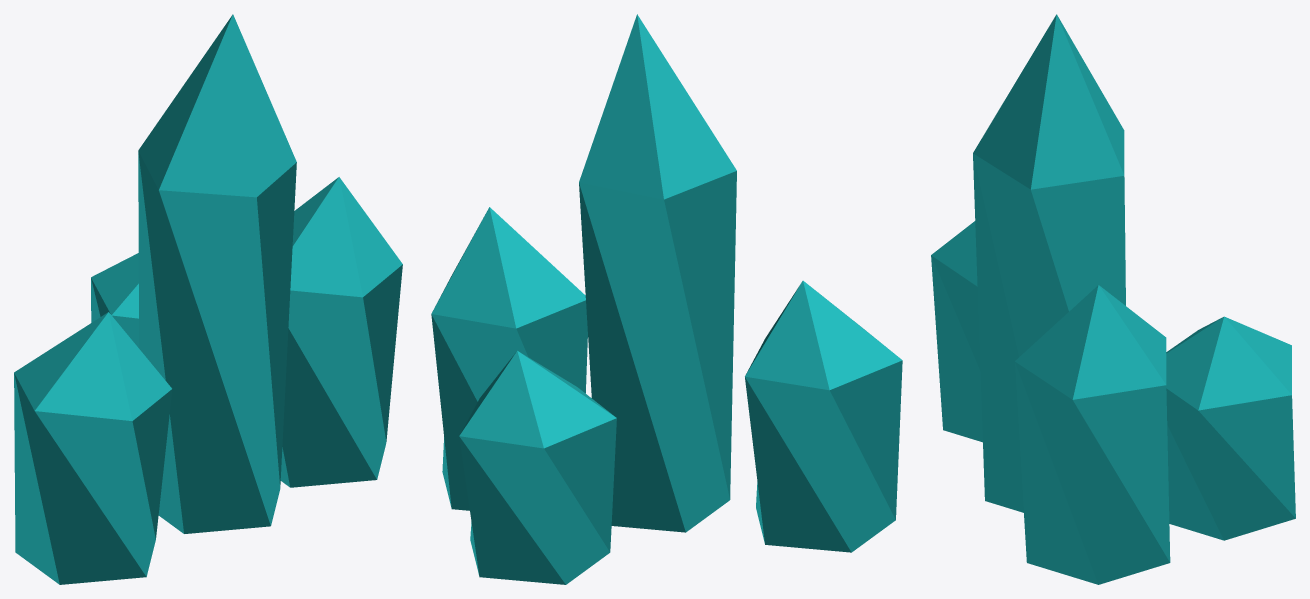
The model's file is Cristais_arcanos_LOD0.fbx.
3 views of the same model, side by side, from view 1: azimuth 30°, elevation 25°; view 2: azimuth 150°, elevation 25°; view 3: azimuth 270°, elevation 25° (orthographic).
Visible parts, largest first — view 1: Cristais_arcanos_LOD0; view 2: Cristais_arcanos_LOD0; view 3: Cristais_arcanos_LOD0.
Boxes of the visible parts, x1,y1,x2,y2 form: Cristais_arcanos_LOD0: (14,14,402,584); Cristais_arcanos_LOD0: (431,14,902,584); Cristais_arcanos_LOD0: (931,14,1295,584).
Bounding box in the file's own units: 113 × 128 × 87.12.
1 material, 1 textured.
